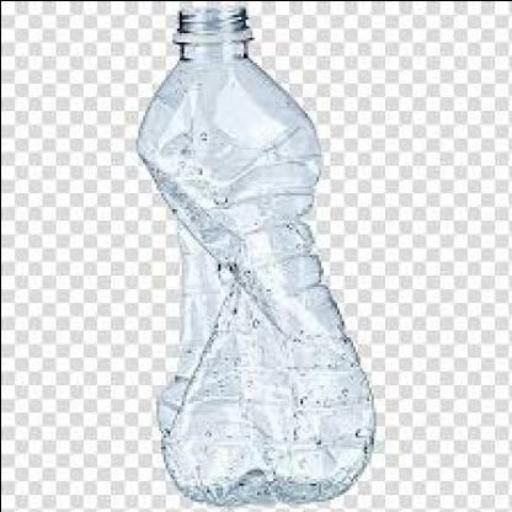plastic: (133, 4, 370, 503)
